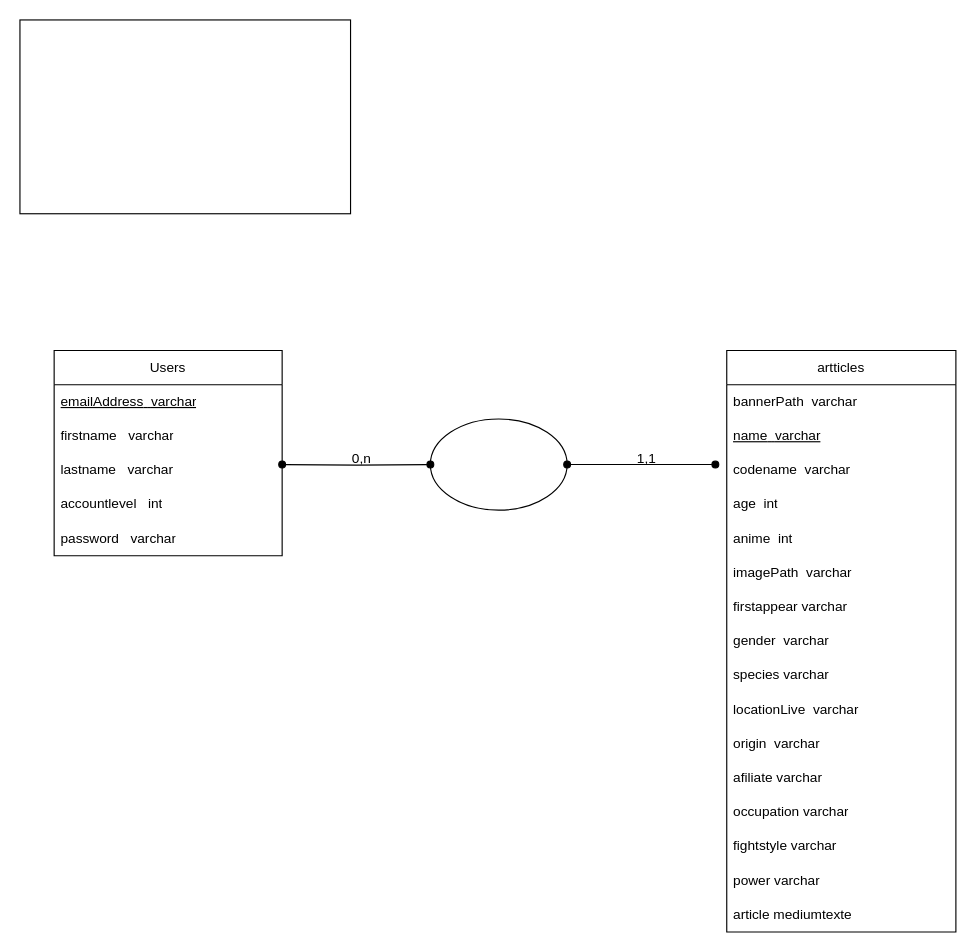
Image size: 976x952. Some labels were removed from this diagram. Each missing label, with the centre of its shape:
"Note: Name : BlogAnime Date :11.05.23 Version :0.2 Author :Jaquier Léo" goes at (185,116).
"own" goes at (498,464).
